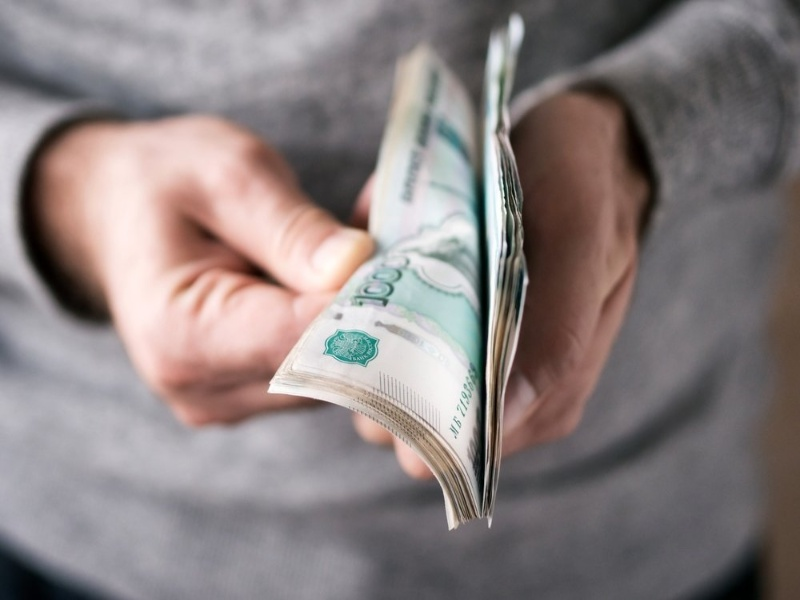cash: (267, 15, 528, 534)
